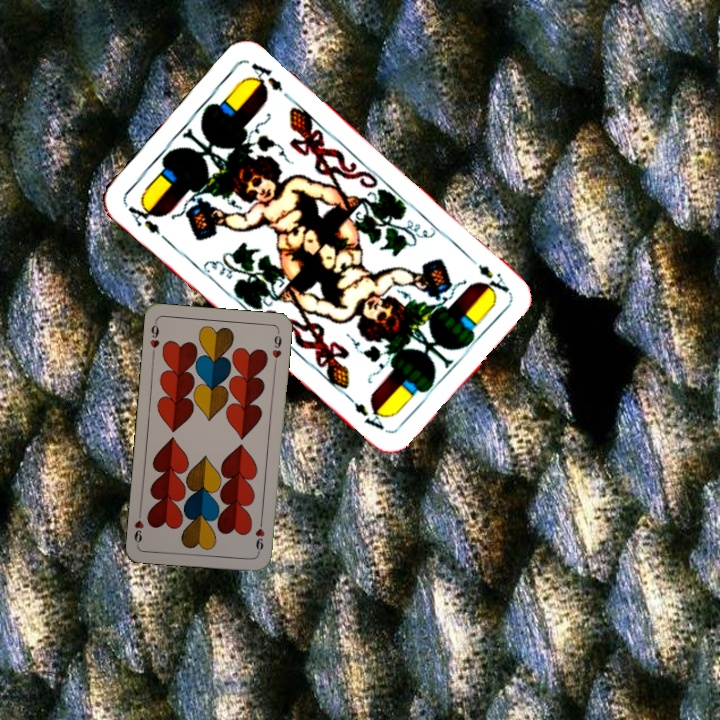EA: (463, 252, 512, 296), (123, 197, 163, 237)
H9: (146, 318, 162, 358), (251, 516, 267, 556)
